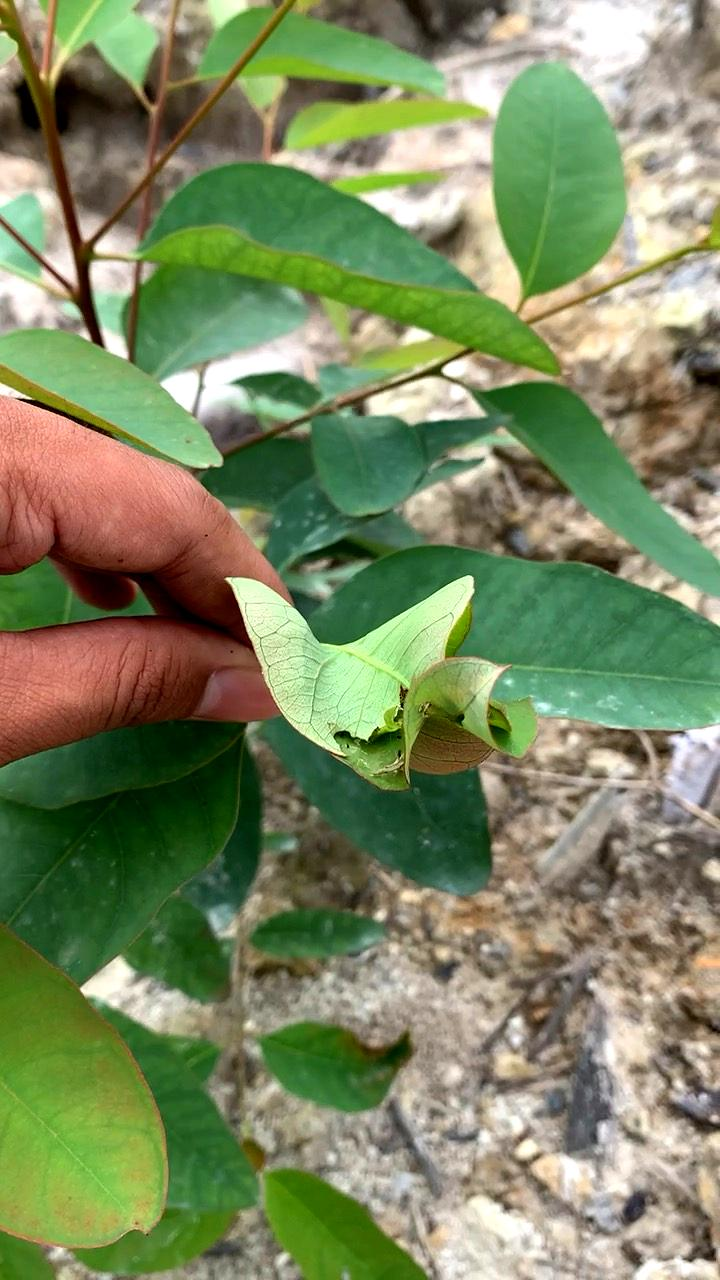Leaf Roller - Leaf: (215, 528, 539, 802)
